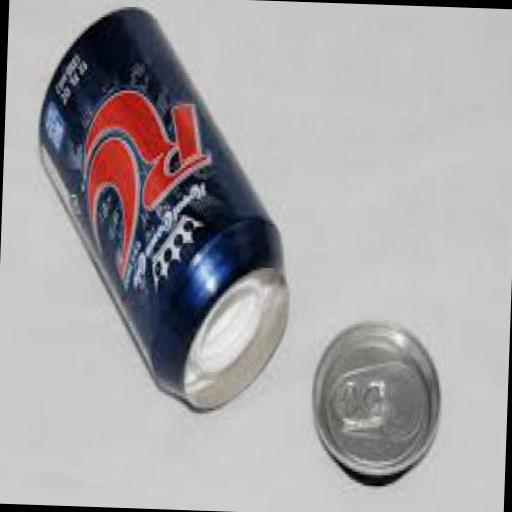metal: (26, 0, 297, 412), (305, 316, 441, 490)
